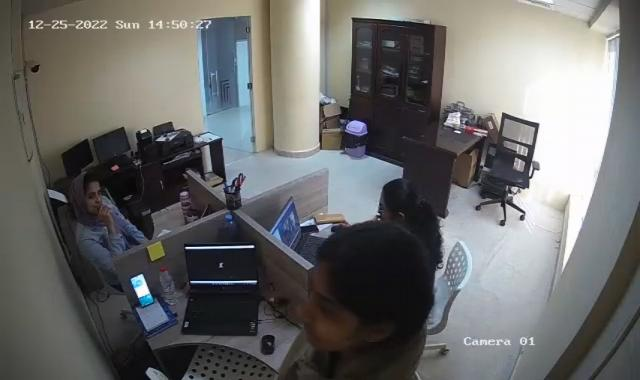no_hairnet: (321, 223, 432, 343), (378, 176, 418, 219), (68, 171, 100, 214)
